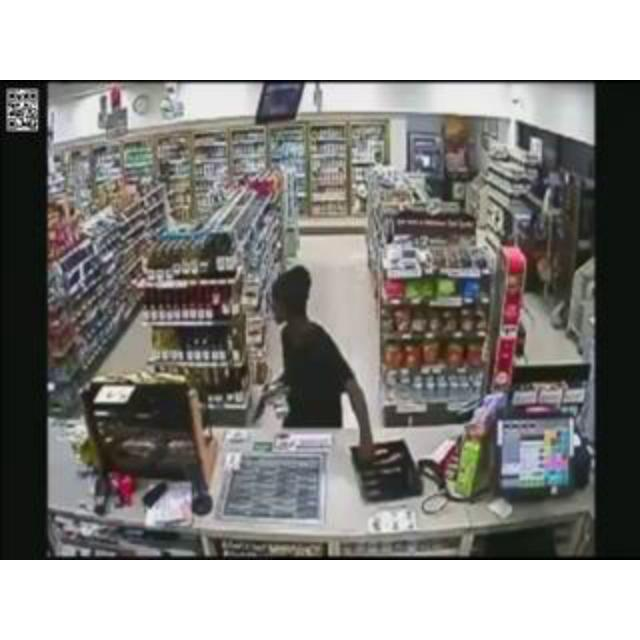criminal: (246, 266, 378, 467)
weapon: (246, 386, 272, 428)
